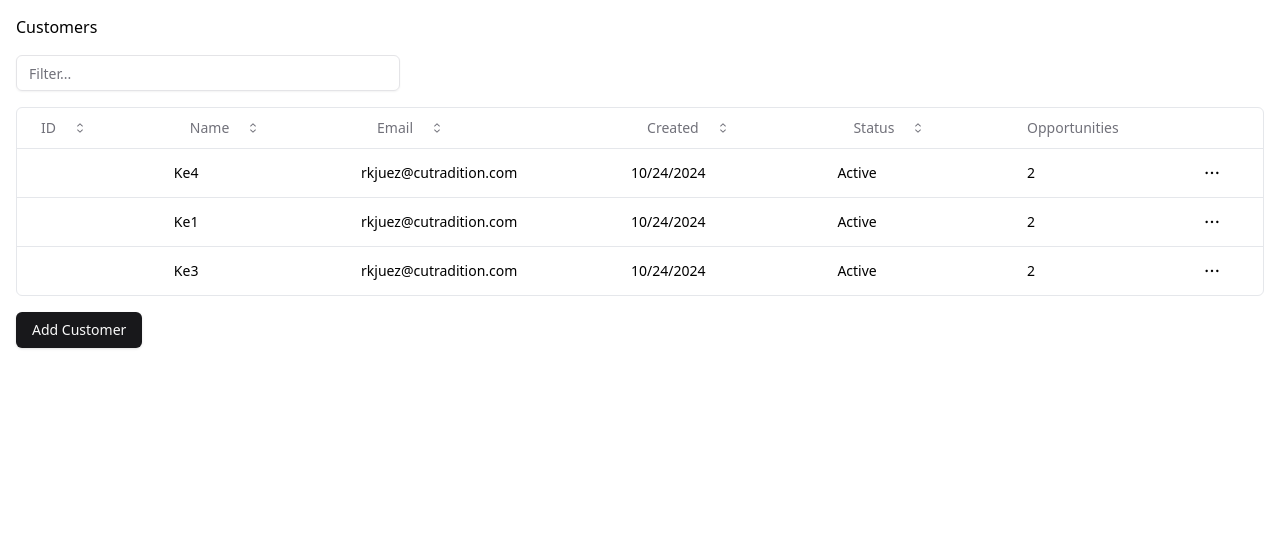
Test: renders client app
Expected: the heading "Customers" is shown, [16,16,97,38]
Click the button "Add Customer" at [79, 330], box [16,312,142,348]
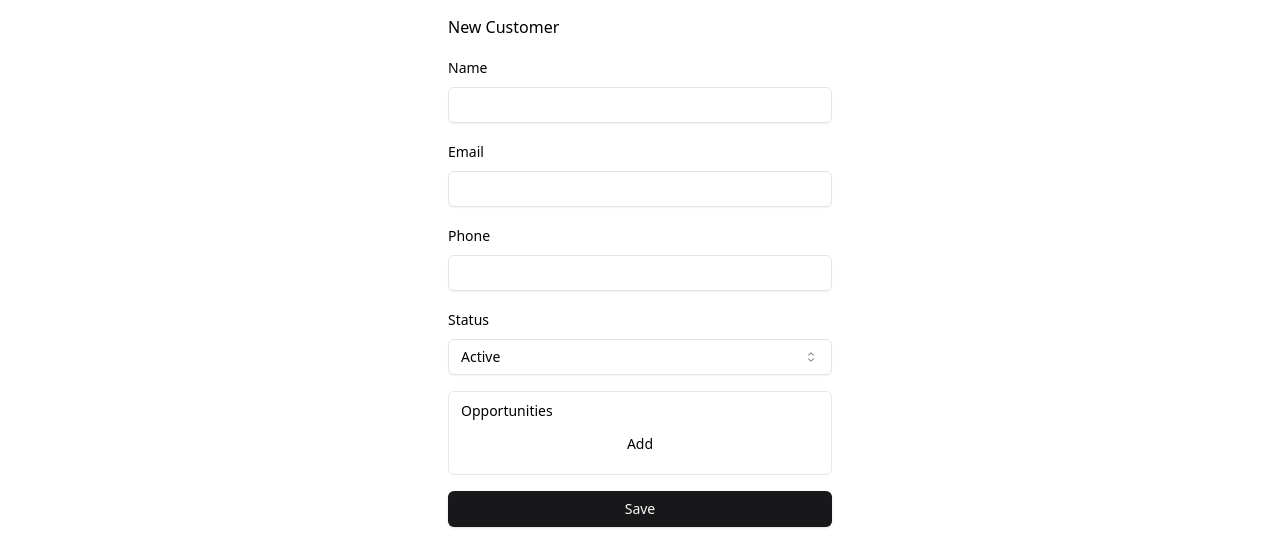
Expected: the heading "New Customer" is shown, [448,16,559,38]
Type "Test Customer" into the field labelled "Name" at [640, 105], box [448,87,832,123]
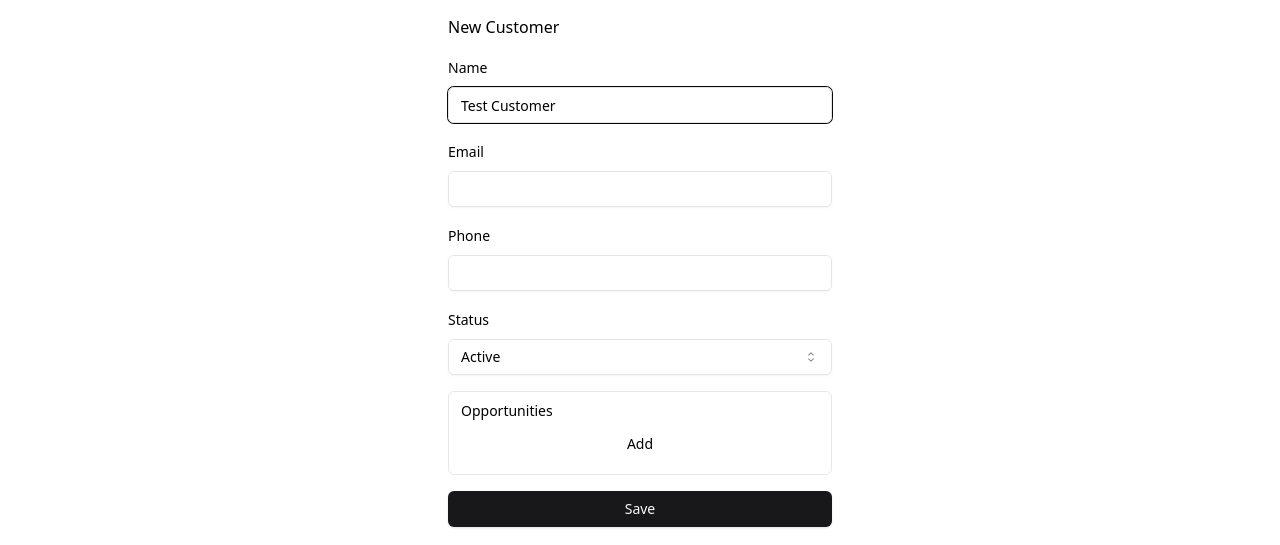
Type "test@example.com" into the field labelled "Email" at [640, 189], box [448,171,832,207]
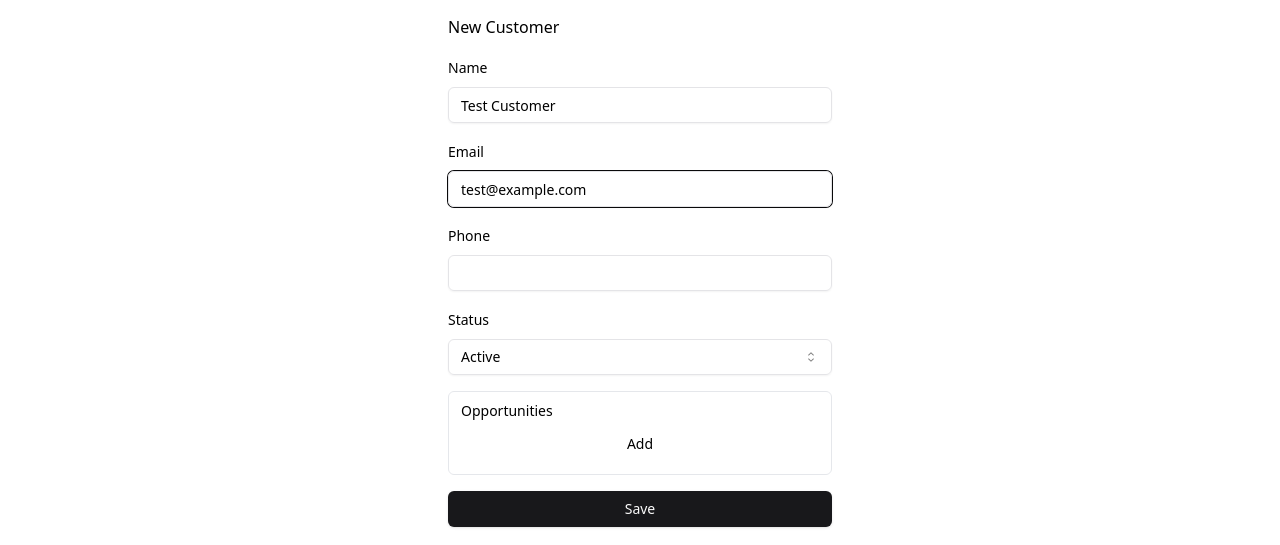
Type "123123123123" into the field labelled "Phone" at [640, 273], box [448,255,832,291]
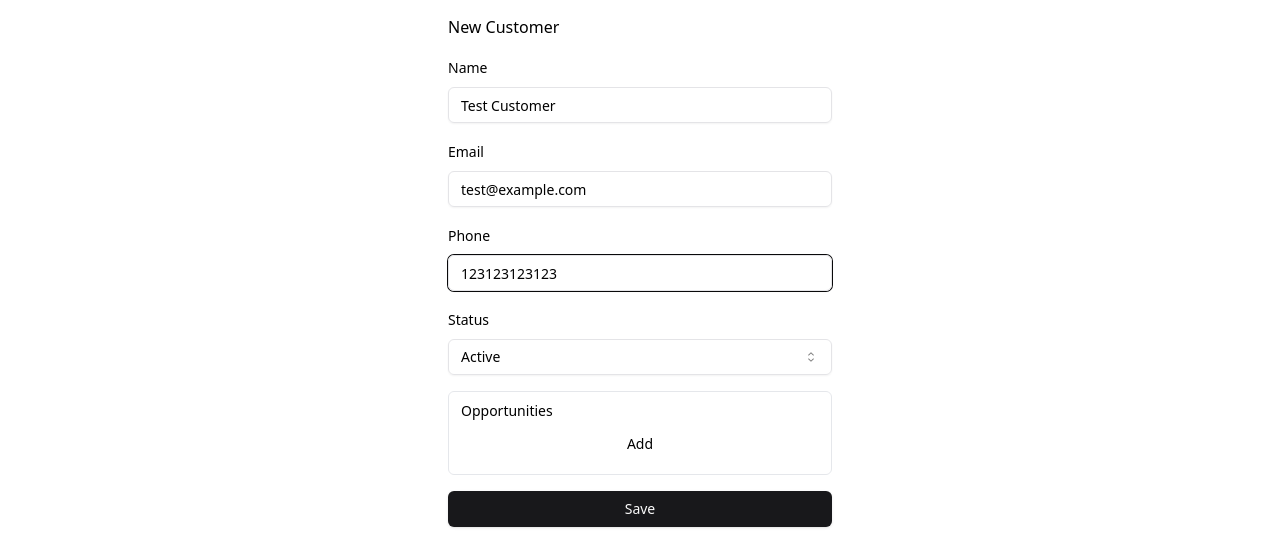
Click the button "Save" at [640, 509], box [448,491,832,527]
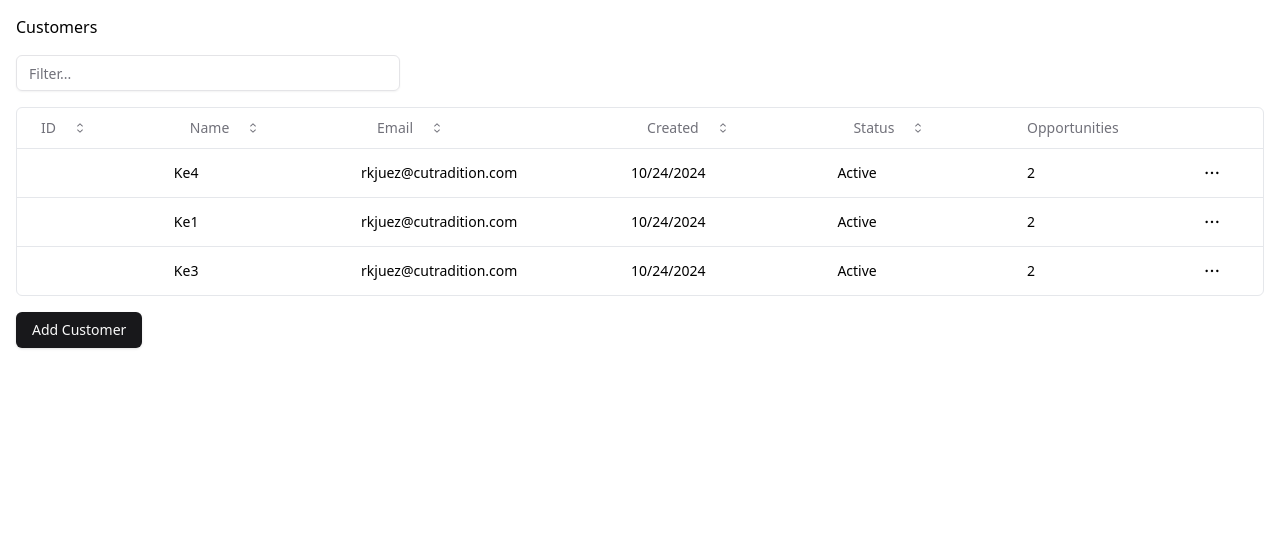
Expected: the heading "Customers" is shown, [16,16,97,38]
